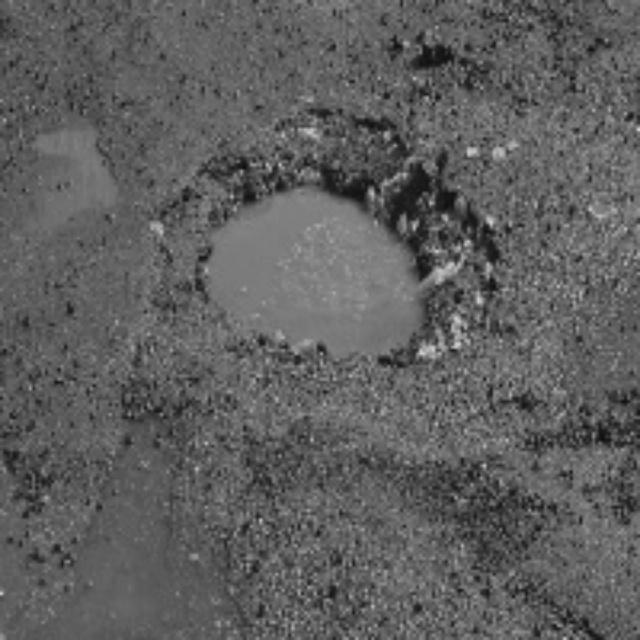Pothole: (184, 153, 456, 374)
